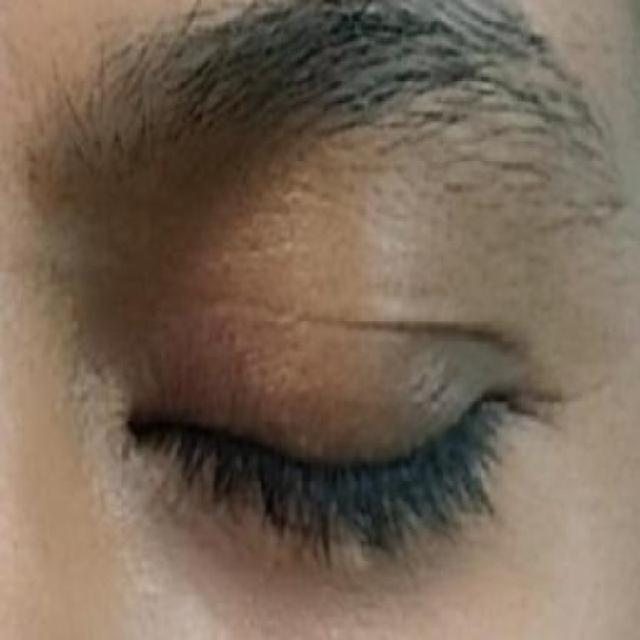drowsy: (115, 292, 534, 603)
